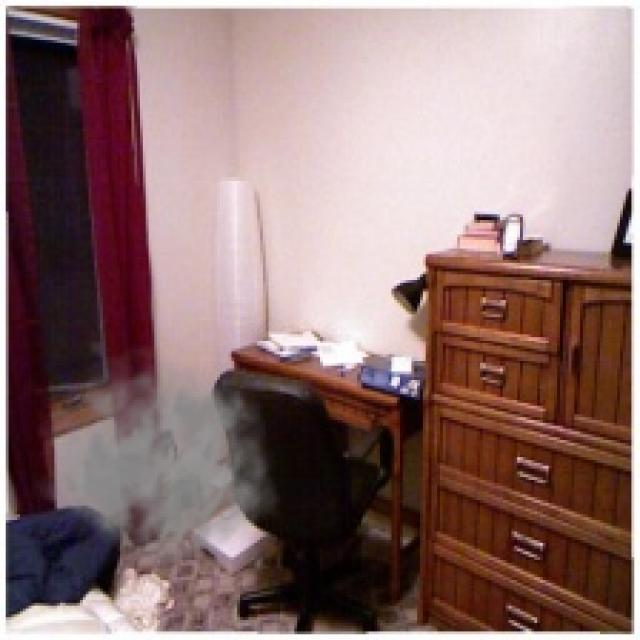smoke: (31, 343, 280, 568)
